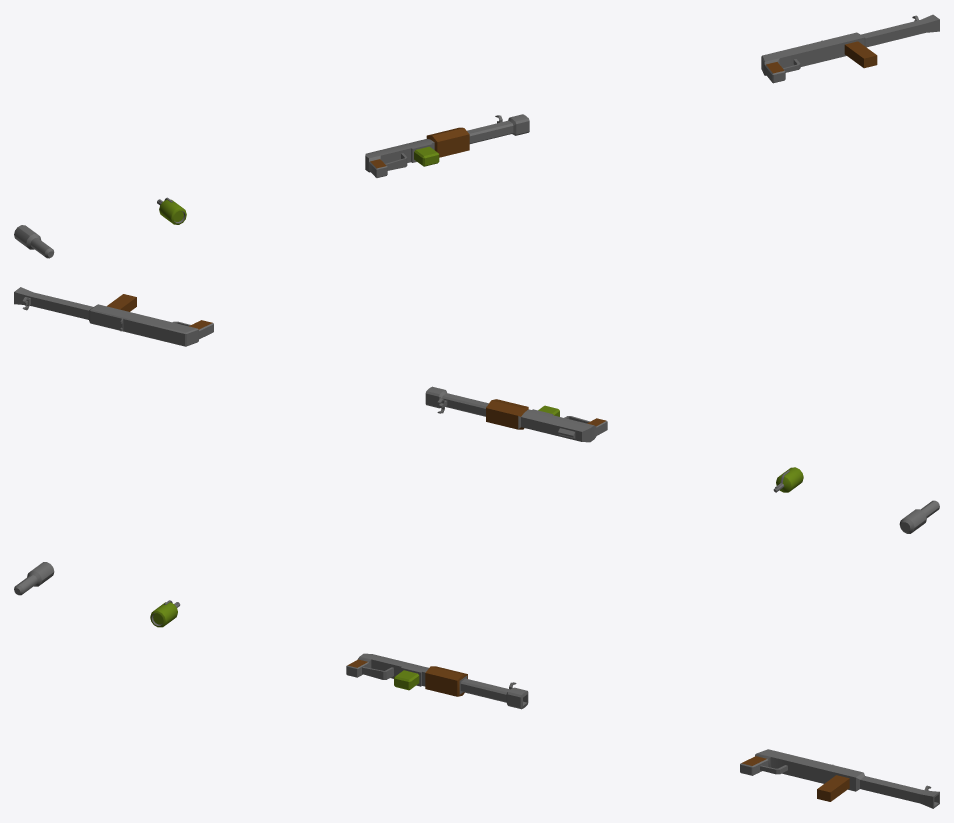
Rendered from ShooterArm.fbx.
3 renders of one model, top to bottom at view 1: azimuth 30°, elevation 25°; view 2: azimuth 150°, elevation 25°; view 3: azimuth 330°, elevation 25°, orthographic.
Visible parts, largest first — view 1: Shmaser, Shotgun, Granate1, Granate2; view 2: Shmaser, Shotgun, Granate1, Granate2; view 3: Shmaser, Shotgun, Granate1, Granate2.
Boxes of the visible parts, <box> form: Shmaser: <box>761,14,939,83</box>; Shotgun: <box>365,114,529,177</box>; Granate1: <box>14,225,54,258</box>; Granate2: <box>157,197,186,224</box>; Shmaser: <box>14,287,213,346</box>; Shotgun: <box>425,386,607,442</box>; Granate1: <box>899,500,939,533</box>; Granate2: <box>773,467,803,492</box>; Shmaser: <box>740,749,939,808</box>; Shotgun: <box>346,653,528,709</box>; Granate1: <box>14,562,54,595</box>; Granate2: <box>150,600,180,627</box>.
Size of the model in its own units: 677 by 15.21 by 49.82.
